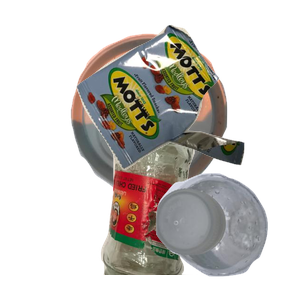glass: (98, 120, 286, 300)
metal: (68, 31, 288, 211)
plastic: (153, 170, 300, 300)
trash: (74, 22, 300, 185)
